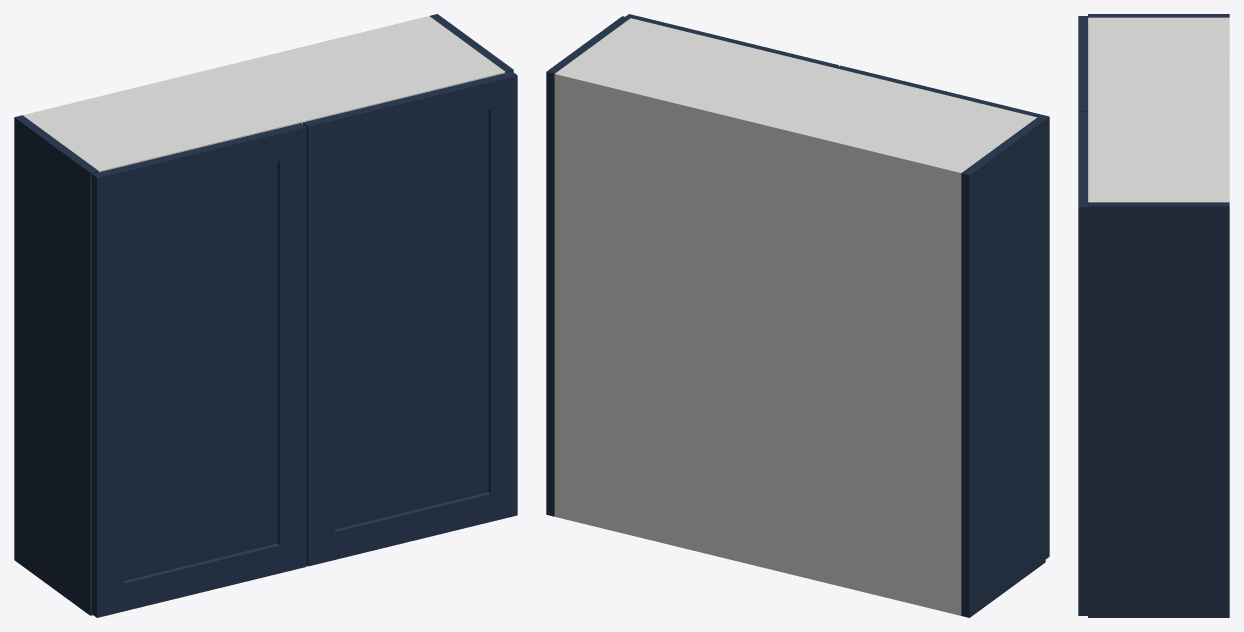
File: oppein-pb-bss-w3636.glb
The picture shows the model from 3 angles, left to right: view 1: azimuth 30°, elevation 25°; view 2: azimuth 150°, elevation 25°; view 3: azimuth 270°, elevation 25°; orthographic projection. The views are drawn at different scales.
Visible parts, largest first — view 1: Door, Door.001, Cabinet side, Cabinet top, Cabinet back, Cabinet side.001; view 2: Cabinet back, Cabinet side, Cabinet top, Cabinet side.001, Door, Cabinet bottom, Door.001; view 3: Cabinet side.001, Cabinet top, Door.001, Cabinet back, Door, Cabinet side.
Boxes of the visible parts, <box> form: Door: <box>92,123,306,617</box>; Door.001: <box>303,71,517,566</box>; Cabinet side: <box>14,115,98,615</box>; Cabinet top: <box>26,18,505,172</box>; Cabinet back: <box>23,16,431,117</box>; Cabinet side.001: <box>430,14,513,72</box>; Cabinet back: <box>554,71,963,615</box>; Cabinet side: <box>961,117,1045,617</box>; Cabinet top: <box>555,18,1036,179</box>; Cabinet side.001: <box>546,16,630,516</box>; Door: <box>836,65,1049,558</box>; Cabinet bottom: <box>554,508,952,613</box>; Door.001: <box>625,14,838,67</box>; Cabinet side.001: <box>1088,202,1229,617</box>; Cabinet top: <box>1088,17,1229,202</box>; Door.001: <box>1078,111,1087,615</box>; Cabinet back: <box>1224,17,1229,202</box>; Door: <box>1078,16,1087,111</box>; Cabinet side: <box>1088,14,1229,17</box>.
Bounding box in the file's own units: 0.9144 × 0.9144 × 0.3048.
